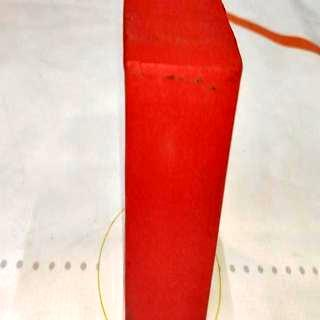redbox: (120, 0, 244, 320)
